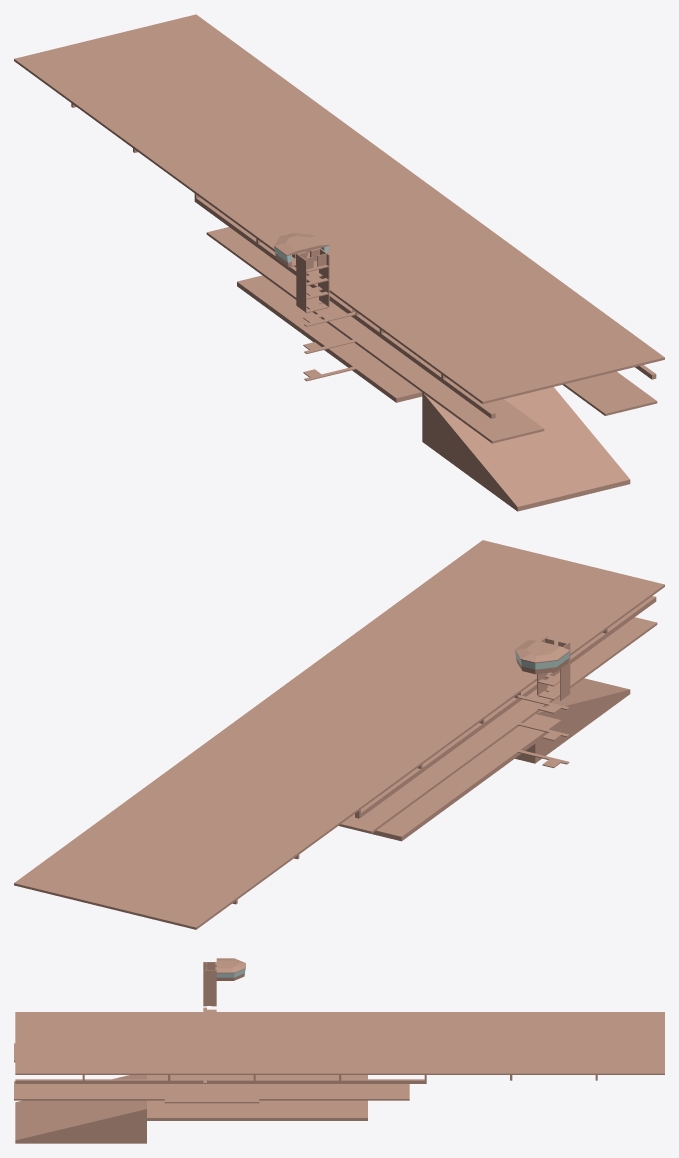
File: chassis_carrier_phys.dae
3 views of the same model, one above another, from view 1: azimuth 30°, elevation 25°; view 2: azimuth 150°, elevation 25°; view 3: azimuth 270°, elevation 25° (orthographic). The views are drawn at different scales.
Parts seen in each view (by area): view 1: group_19, group_12, group_18, group_30, group_20, group_53, group_0; view 2: group_19, group_18, group_30, group_12, group_53, group_0; view 3: group_19, group_20, group_12, group_30, group_33, group_35, group_54, group_0, group_4.
Part boxes in pixels (x1,y1,x2,y2): group_19: (14, 14, 664, 403); group_12: (422, 387, 630, 511); group_18: (206, 227, 544, 443); group_30: (237, 275, 422, 402); group_20: (562, 371, 657, 415); group_53: (194, 197, 495, 418); group_0: (274, 233, 329, 255); group_19: (14, 540, 664, 929); group_18: (339, 617, 657, 833); group_30: (339, 714, 561, 841); group_12: (515, 678, 630, 763); group_53: (355, 596, 656, 818); group_0: (515, 640, 569, 663); group_19: (15, 1012, 664, 1074); group_20: (14, 1081, 409, 1100); group_12: (15, 1075, 146, 1143); group_30: (147, 1075, 367, 1120); group_33: (15, 1079, 426, 1083); group_35: (203, 970, 216, 1005); group_54: (164, 1099, 259, 1103); group_0: (216, 958, 245, 973); group_4: (170, 1075, 253, 1079).
Size of the model in its own units: 2112 by 7382 by 1496.
